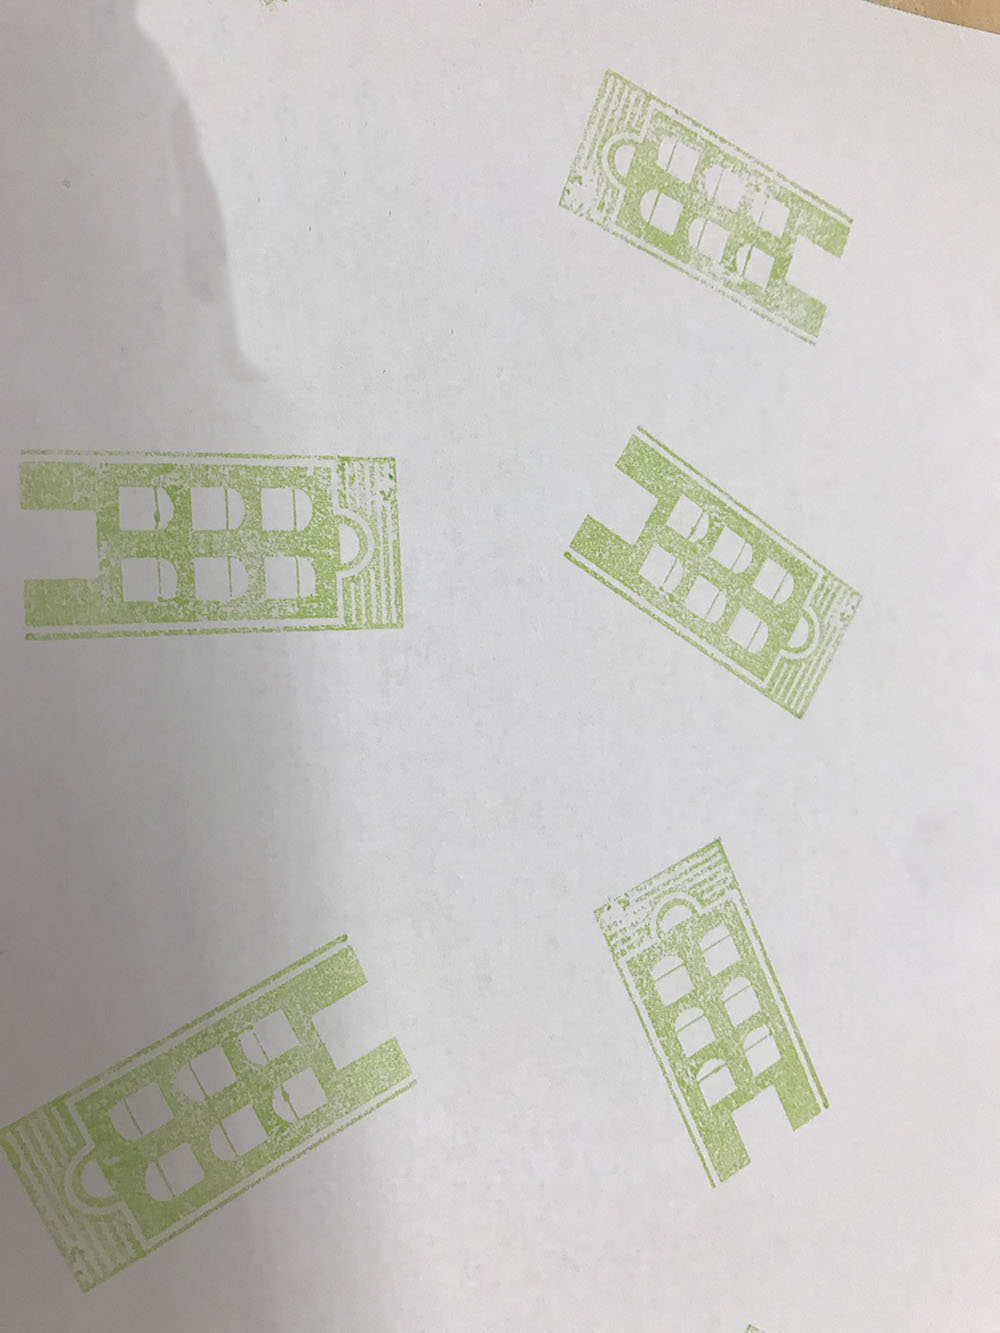build: (1, 900, 445, 1307), (532, 403, 907, 747), (511, 38, 874, 378), (563, 807, 870, 1199), (1, 419, 425, 672)
